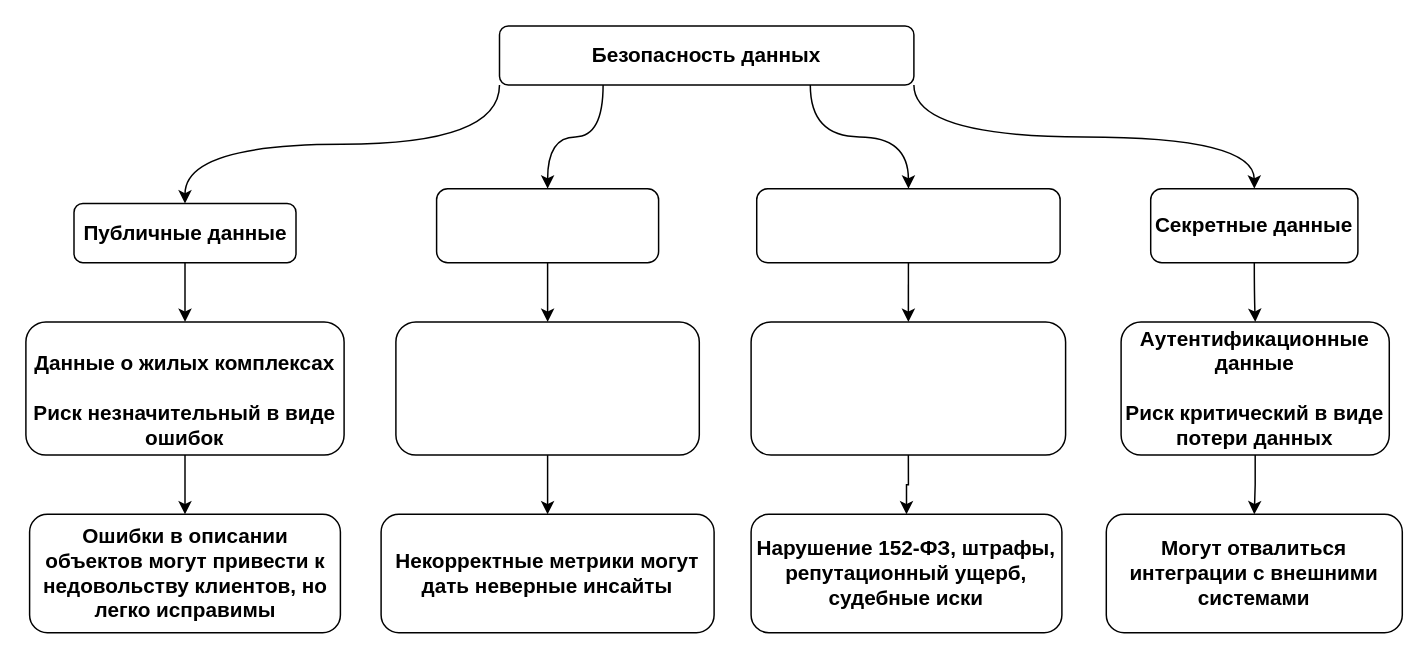
The diagram is 1428 pixels wide and 659 high, and some of its shapes have lost their labels. Each missing label, with the centre of its shape:
Внутренние данные: [547,225]
Конфиденциа льны е данные: [907,225]
Логи и метрики компании Риск значительный в виде некорректных данных: [546,387]
Персональные данные и данные контрактов Риск критический в виде утечки: [908,387]
